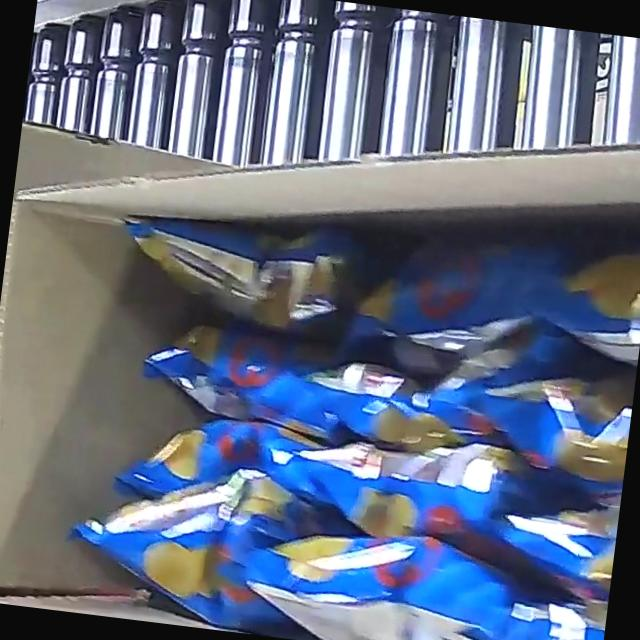paprika: (54, 130, 640, 640)
